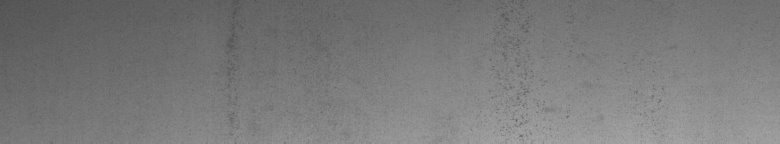ib: (496, 6, 661, 132)
